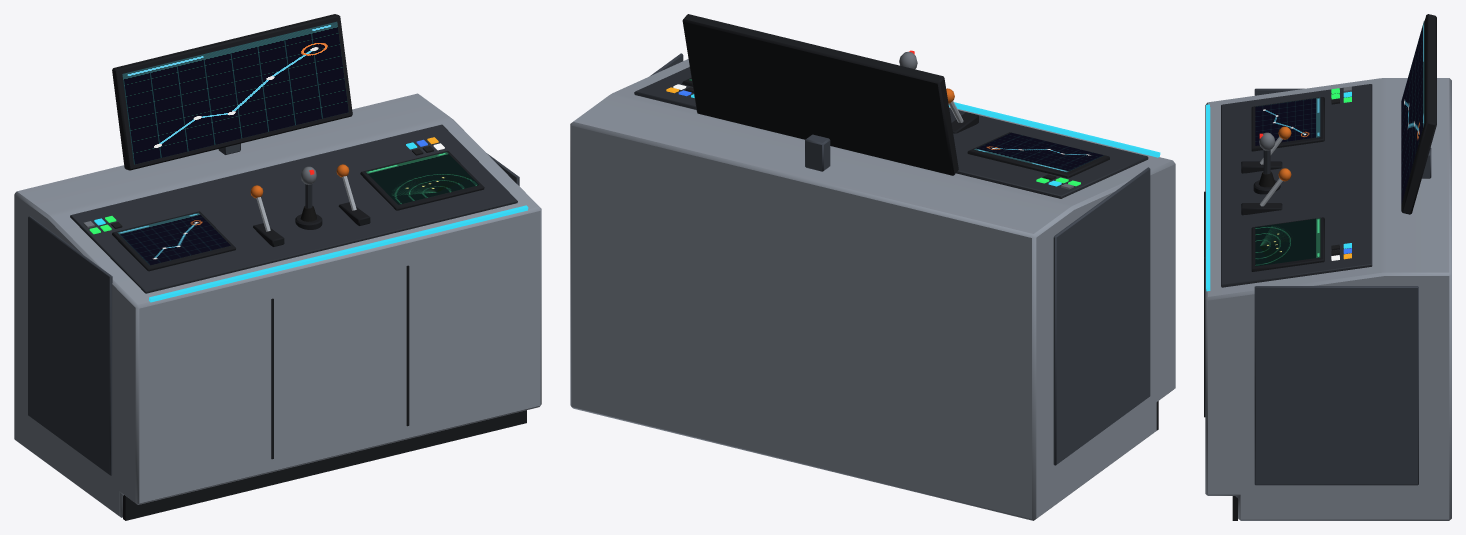
Rendered from console_helm.glb.
3 views of the same model, side by side, from view 1: azimuth 30°, elevation 25°; view 2: azimuth 150°, elevation 25°; view 3: azimuth 270°, elevation 25° (orthographic). The views are drawn at different scales.
Visible parts, largest first — view 1: console_helm; view 2: console_helm; view 3: console_helm.
Part boxes in pixels (<box>): console_helm: <box>14,14,541,520</box>; console_helm: <box>570,14,1175,520</box>; console_helm: <box>1204,14,1451,520</box>.
Size of the model in its own units: 1.72 by 1.43 by 0.904.
17 materials, 2 textured.
